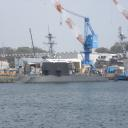submarine: (13, 60, 119, 84), (27, 64, 113, 84)
